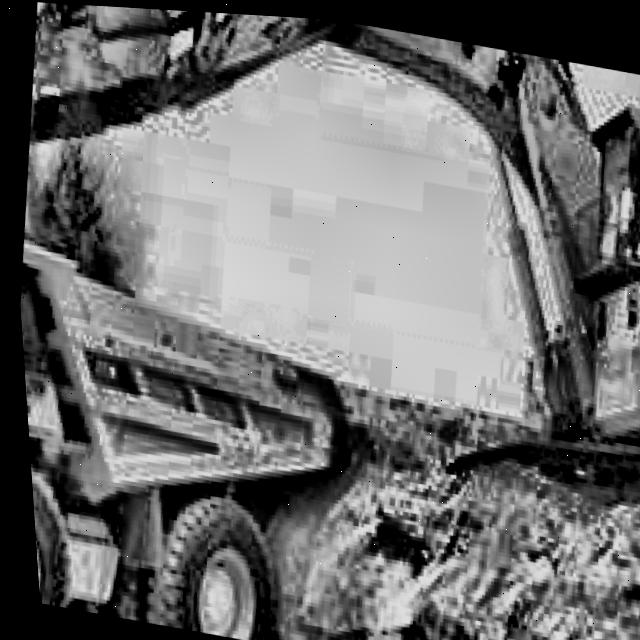dump_truck: (10, 200, 375, 640)
excavator: (0, 0, 640, 549)
